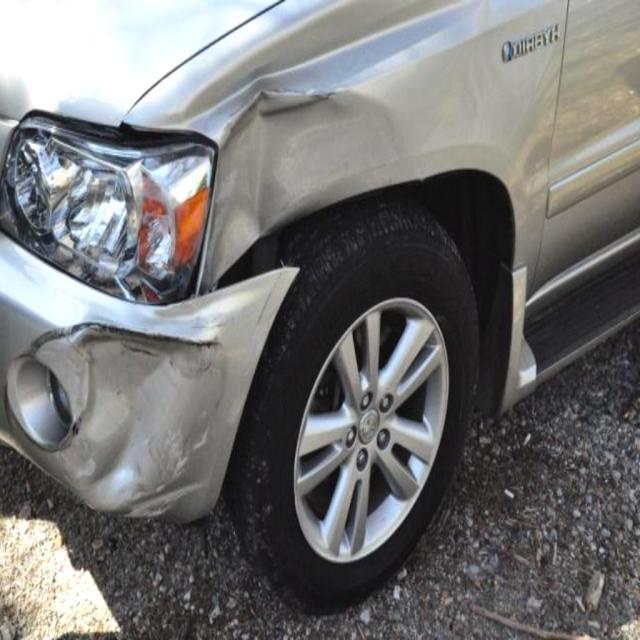minor: (9, 61, 410, 519)
